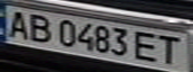0: (54, 17, 78, 48)
3: (109, 26, 133, 59)
4: (75, 20, 96, 52)
8: (90, 24, 112, 55)
A: (3, 8, 33, 39)
B: (24, 11, 54, 44)
E: (133, 29, 163, 64)
T: (154, 33, 187, 66)
